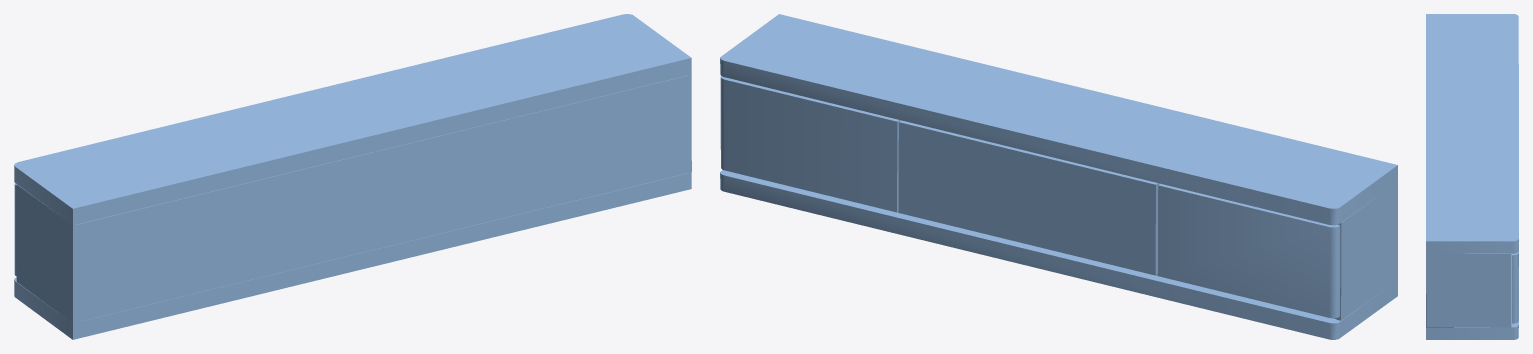
The model's file is Manchester.fbx.
The picture shows the model from 3 angles, left to right: view 1: azimuth 30°, elevation 25°; view 2: azimuth 150°, elevation 25°; view 3: azimuth 270°, elevation 25°; orthographic projection. The views are drawn at different scales.
Parts seen in each view (by area): view 1: TV TABLE MANCHESTER; view 2: TV TABLE MANCHESTER; view 3: TV TABLE MANCHESTER.
Boxes of the visible parts, x1,y1,x2,y2 form: TV TABLE MANCHESTER: (14,14,691,339); TV TABLE MANCHESTER: (720,14,1397,339); TV TABLE MANCHESTER: (1426,14,1518,339).
Size of the model in its own units: 315 by 63.77 by 54.37.
